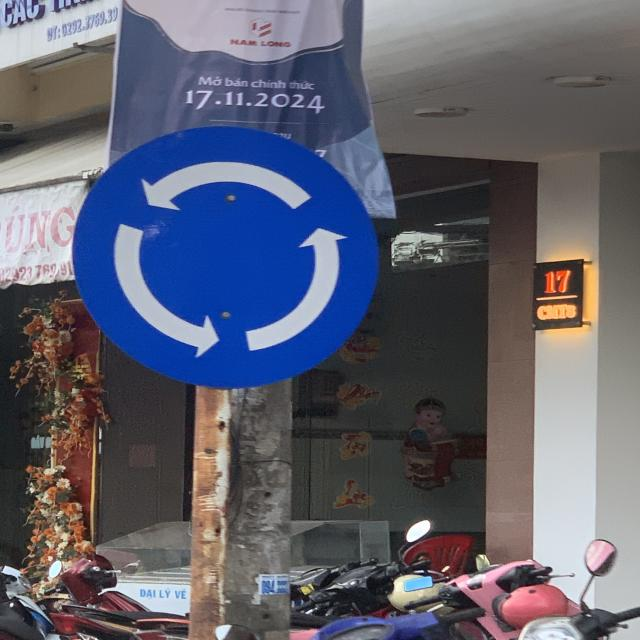Xe_Bus: (73, 122, 381, 388)
